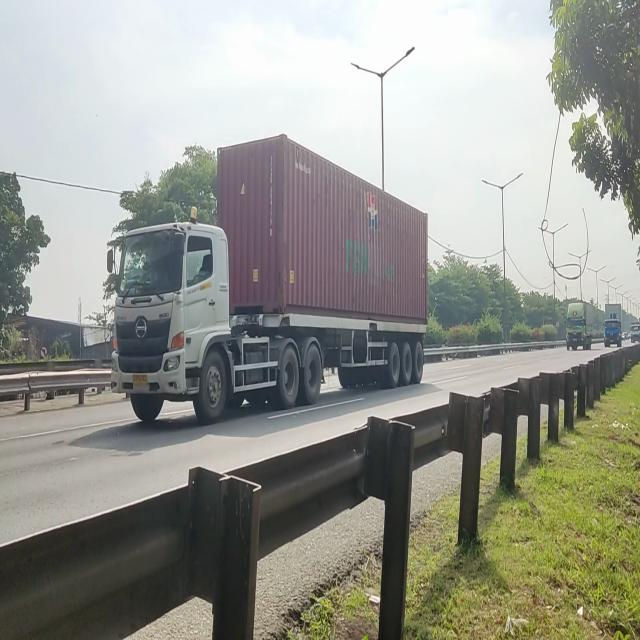Golongan V: (105, 173, 427, 431)
